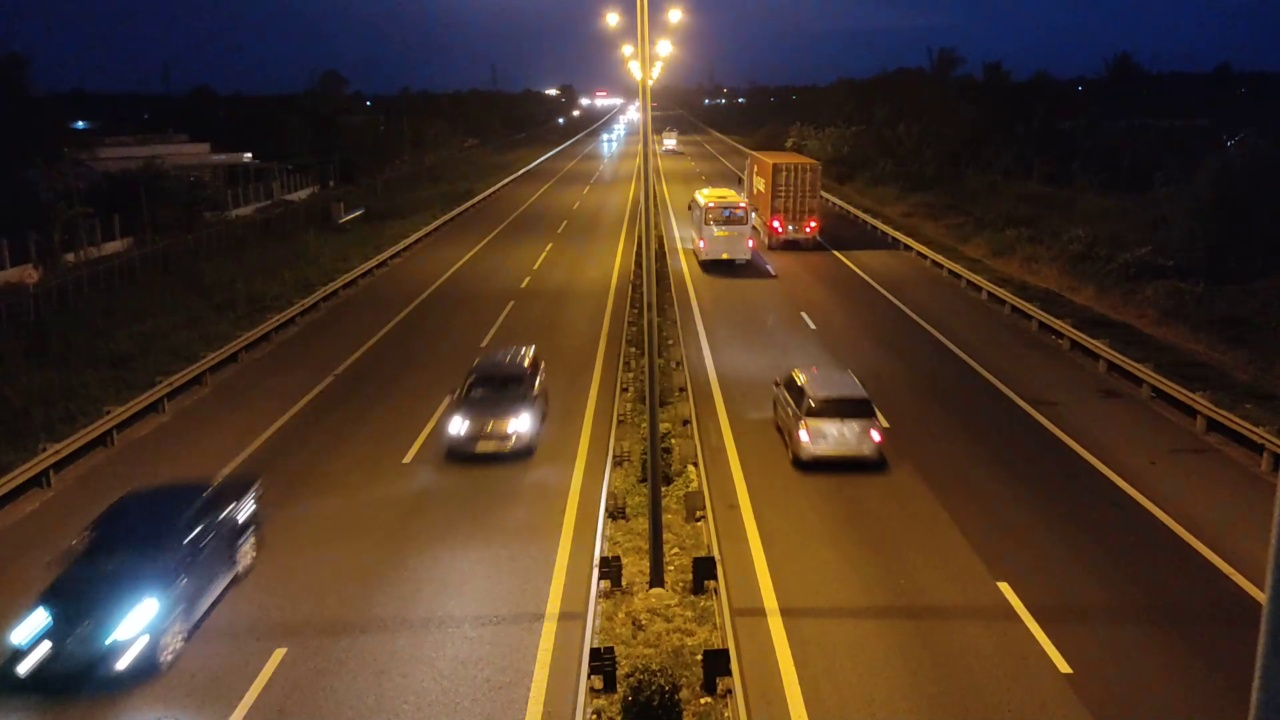bus: (685, 182, 762, 272)
car: (1, 475, 263, 691), (441, 343, 551, 461), (771, 365, 891, 469)
truck: (741, 147, 823, 250)
